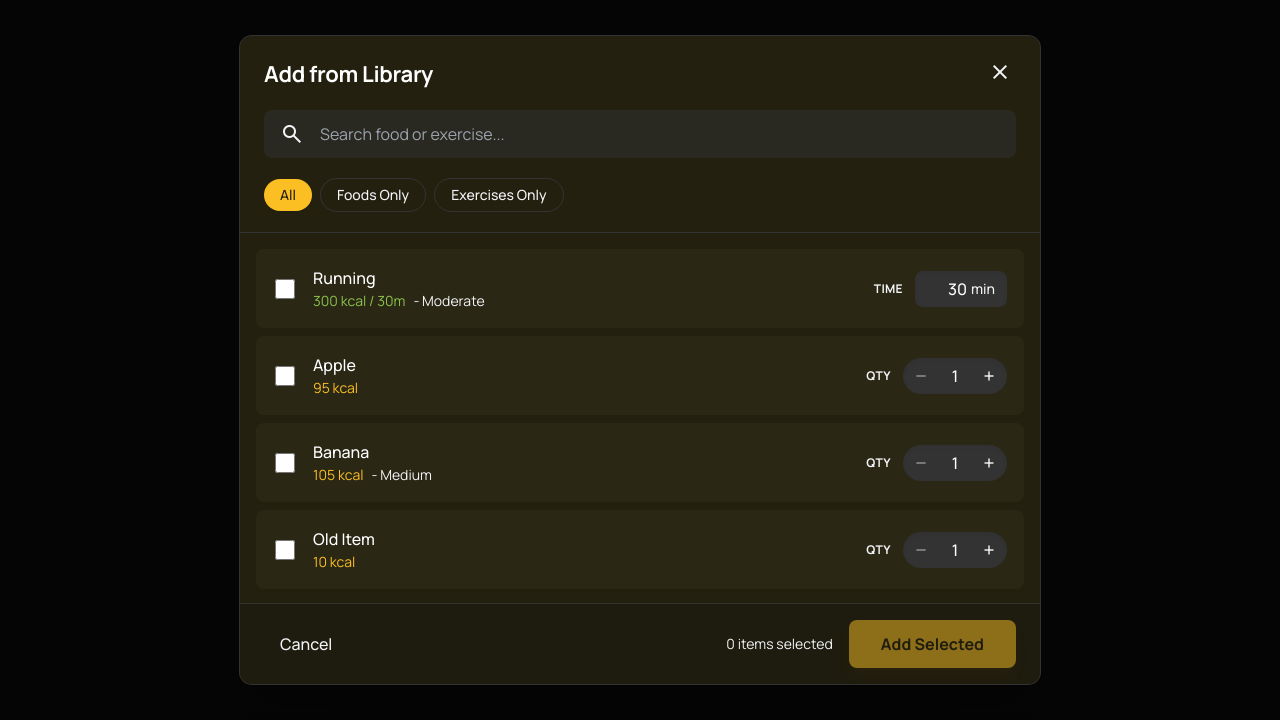
Scenario: LibraryModal › filters by search
expect the text "Banana" is shown: met, box 313,441 -> 369,463
In the field with placeholder "Search food or exercise...": (664, 134) 312,110 -> 1016,158, type "run"
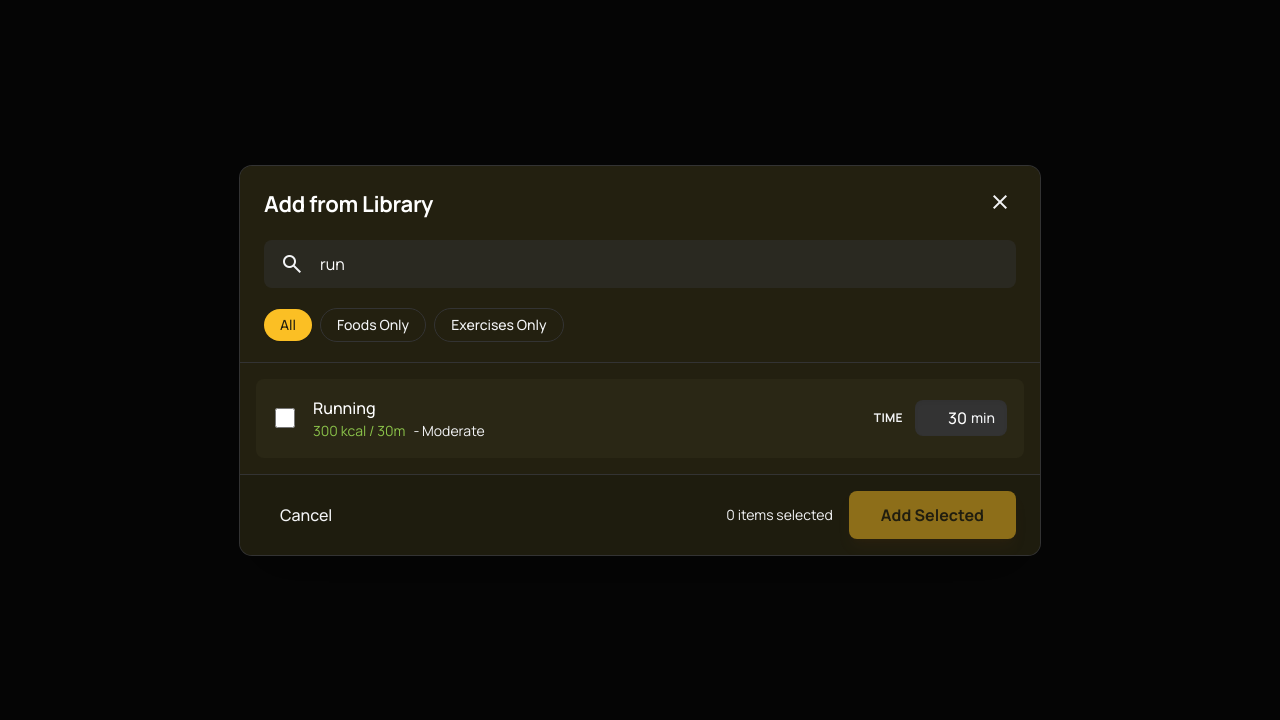
expect the text "Running" is shown: met, box 313,396 -> 376,418
expect the text "Banana" is gone: met
